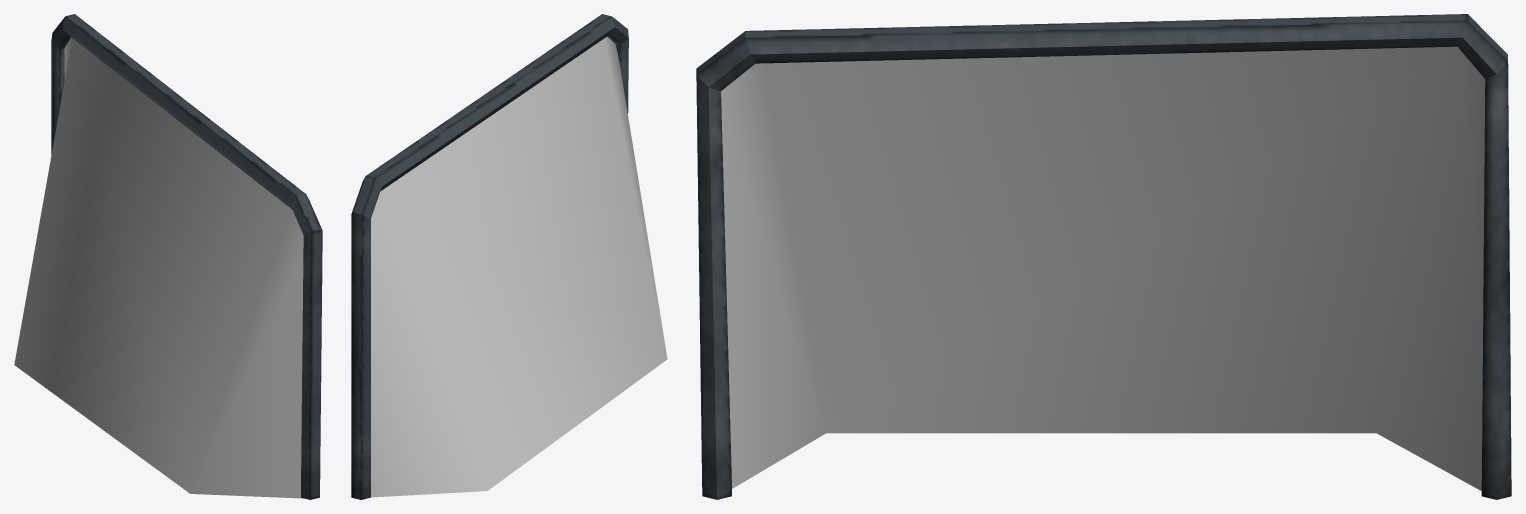
The model's file is Gate.FBX.
The picture shows the model from 3 angles, left to right: view 1: azimuth 30°, elevation 25°; view 2: azimuth 150°, elevation 25°; view 3: azimuth 270°, elevation 25°; orthographic projection. The views are drawn at different scales.
Parts seen in each view (by area): view 1: Plane017, Cylinder032; view 2: Plane017, Cylinder032; view 3: Plane017, Cylinder032.
Part boxes in pixels (left/top/right/bottom): Plane017: left=14, top=37, right=303, bottom=498; Cylinder032: left=51, top=14, right=322, bottom=499; Plane017: left=371, top=37, right=667, bottom=497; Cylinder032: left=351, top=14, right=628, bottom=499; Plane017: left=721, top=46, right=1485, bottom=490; Cylinder032: left=696, top=14, right=1511, bottom=499.
Bounding box in the file's own units: 32.29 × 100 × 154.
